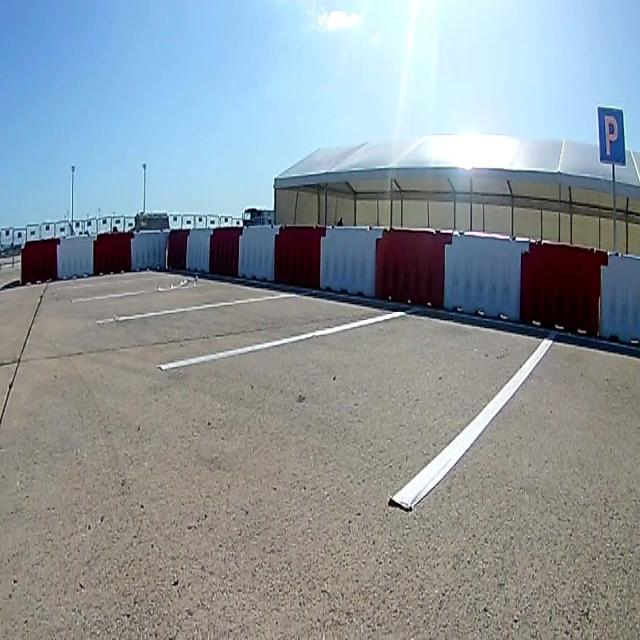park: (597, 107, 625, 166)
